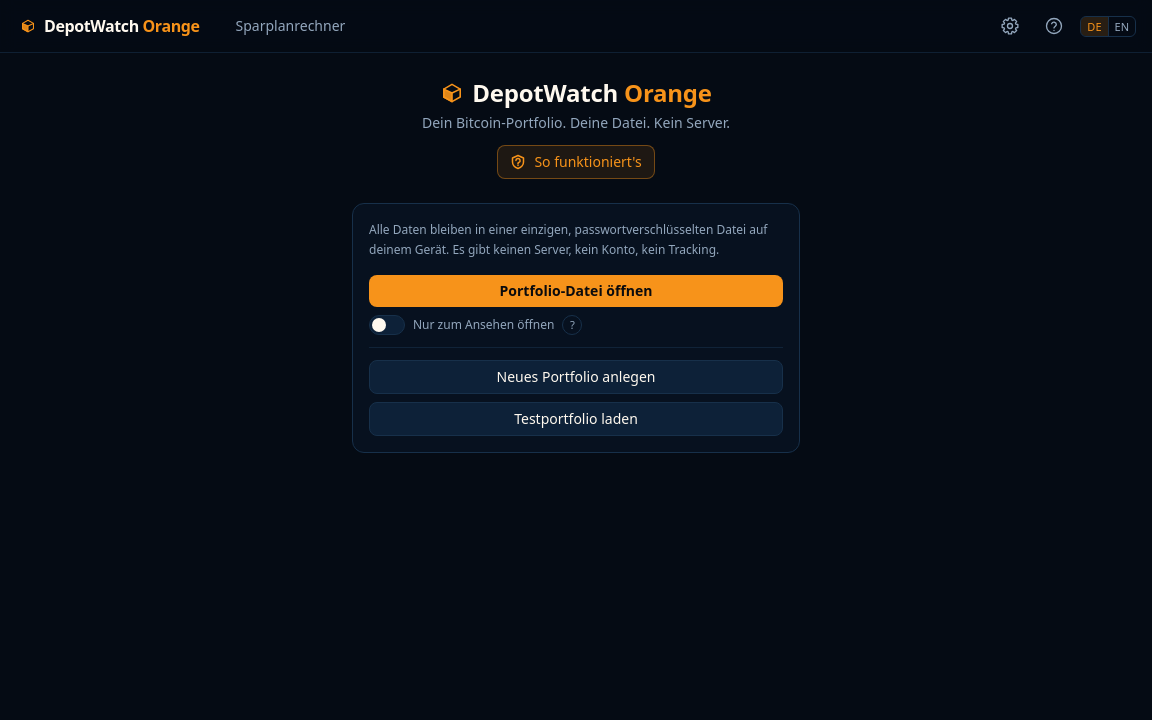
without a file › opens the calculator and the device settings, and comes back to the start
Click the button "Sparplanrechner".
click(290, 26)  # box [224,10,357,42]
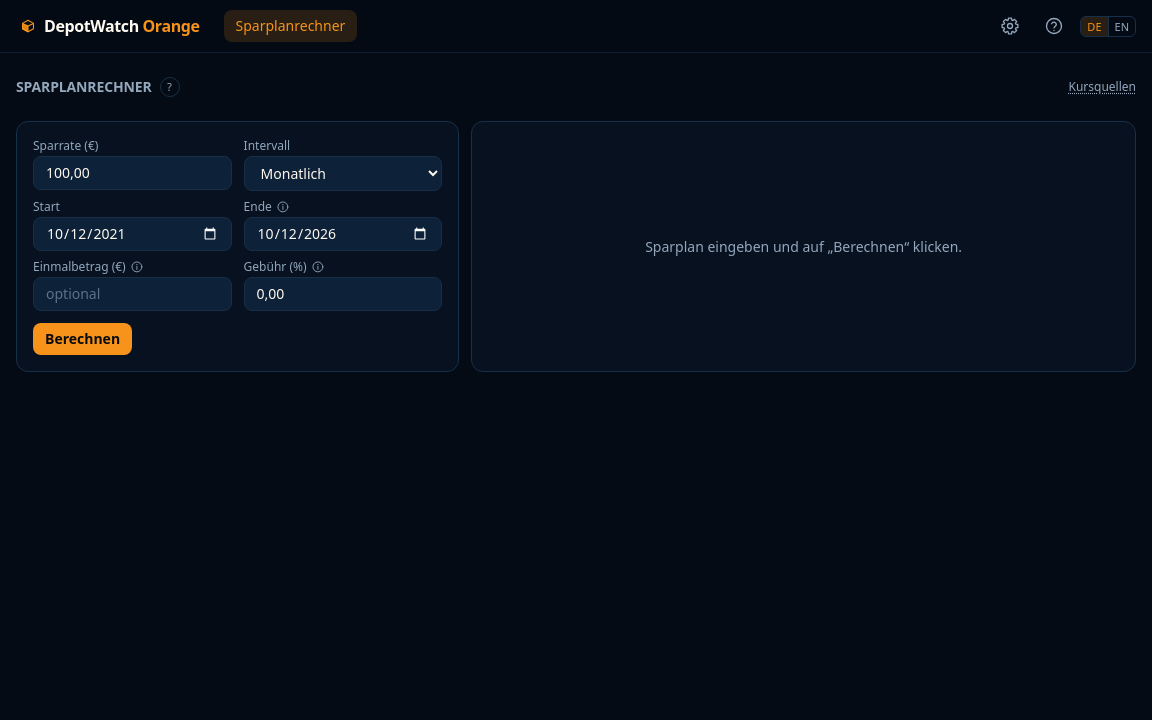
expect the button "Berechnen" is shown: met, box [33,323,132,355]
Click the button named "Einstellungen".
click(1010, 26)  # box [992,8,1028,44]
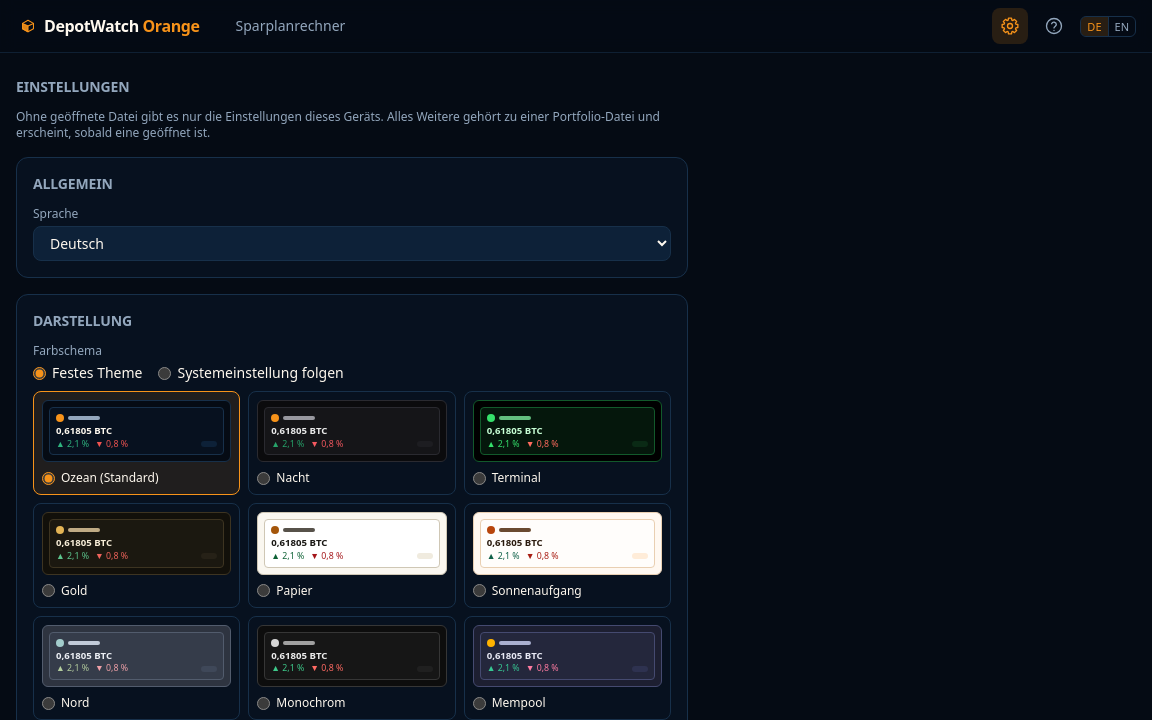
expect the text "Ohne geöffnete Datei" is shown: met, box [16,108,660,141]
expect the text "Farbschema" is shown: met, box [33,343,102,359]
Click the button named "Startseite".
click(110, 26)  # box [16,14,204,38]
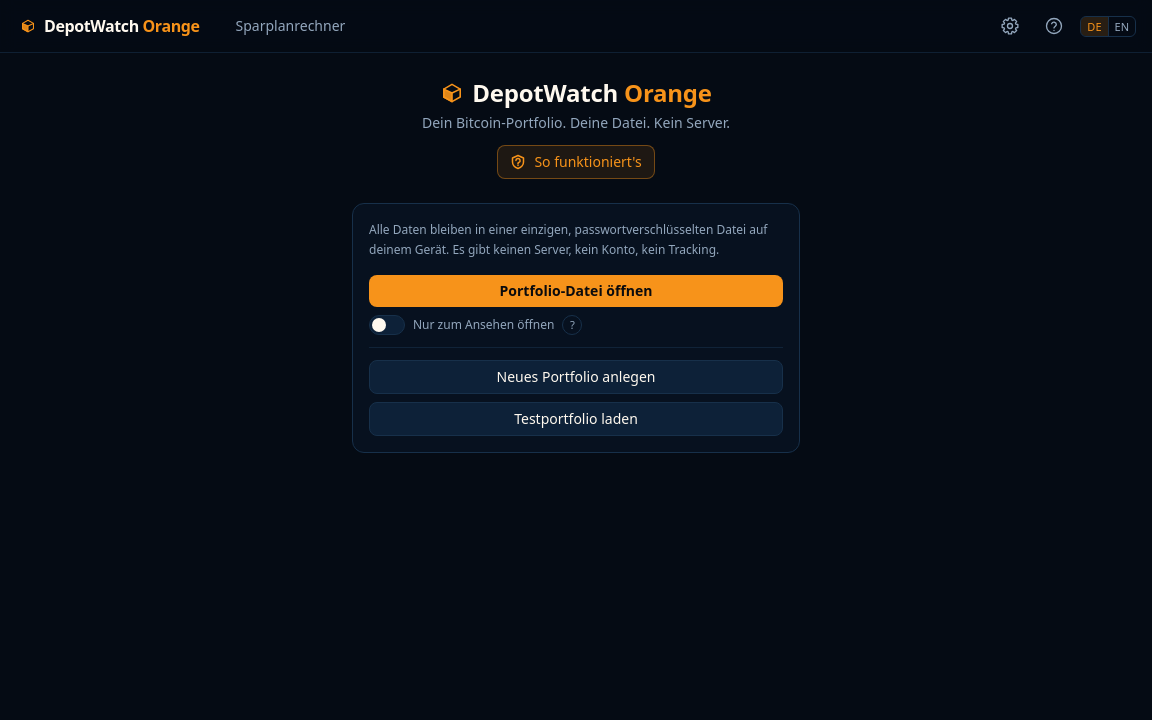
expect the button "Portfolio-Datei öffnen" is shown: met, box [369,275,783,307]
